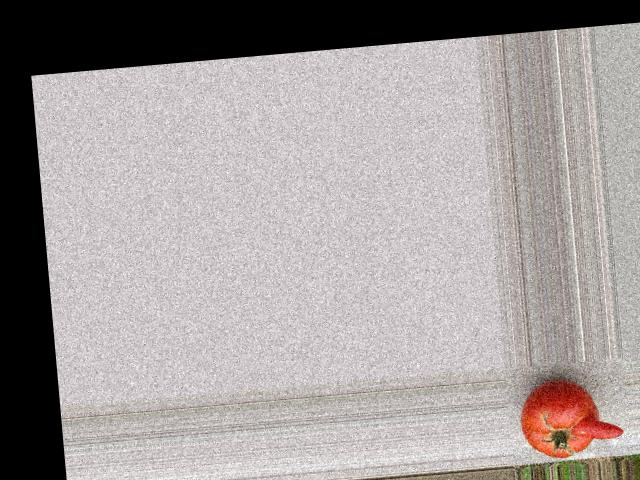tomato: (516, 378, 602, 461)
